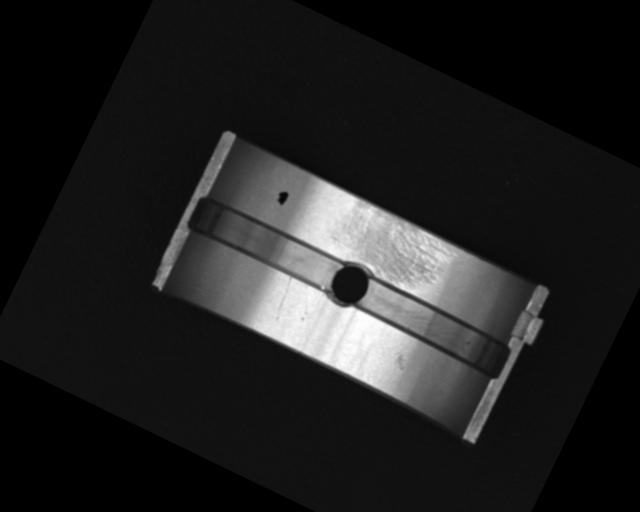blot: (273, 187, 291, 208)
bruise: (391, 352, 410, 372)
gap: (350, 273, 516, 380), (186, 191, 346, 296)
hole: (320, 253, 377, 316)
nick: (274, 275, 296, 313)
scratch: (320, 193, 459, 303)
